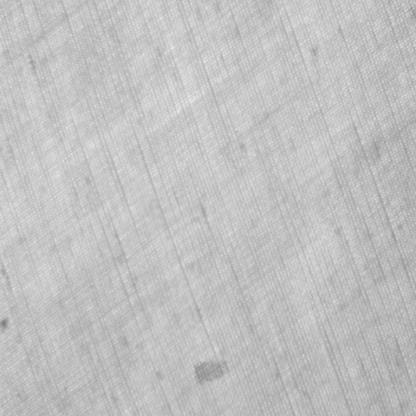oil spot: (192, 358, 230, 384)
